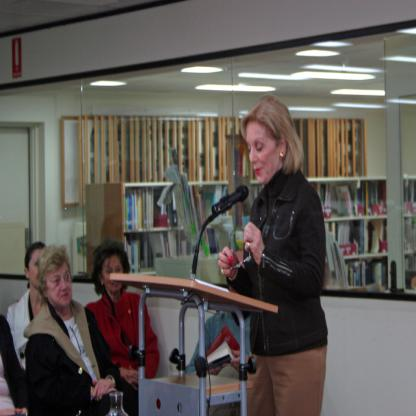book: (127, 232, 221, 271), (326, 220, 364, 258), (126, 189, 155, 236), (200, 184, 232, 226), (352, 180, 384, 216), (362, 260, 388, 294), (311, 185, 333, 217), (335, 184, 352, 218), (345, 264, 362, 289)
